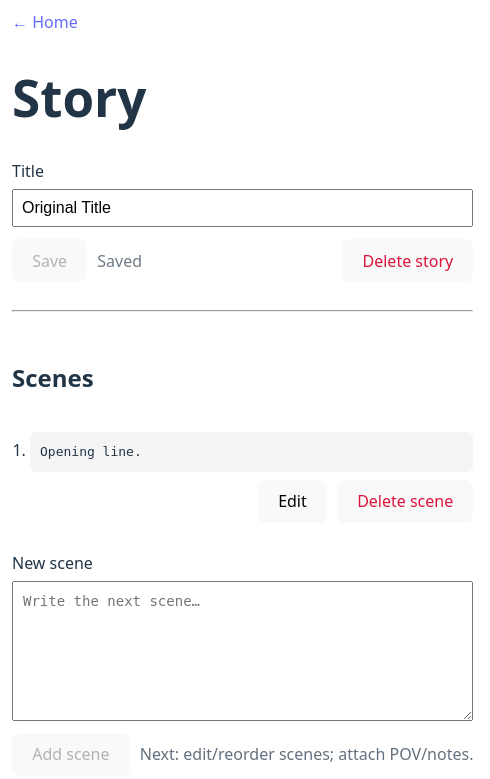
Scenario: loads a story title and enables Save only when changed
Check: the button "Save" is disabled, box [12,239,87,282]
Replace the text in the field with placeholder "Untitled story" with "Updated Title" at (243, 208), box [12,189,473,227]
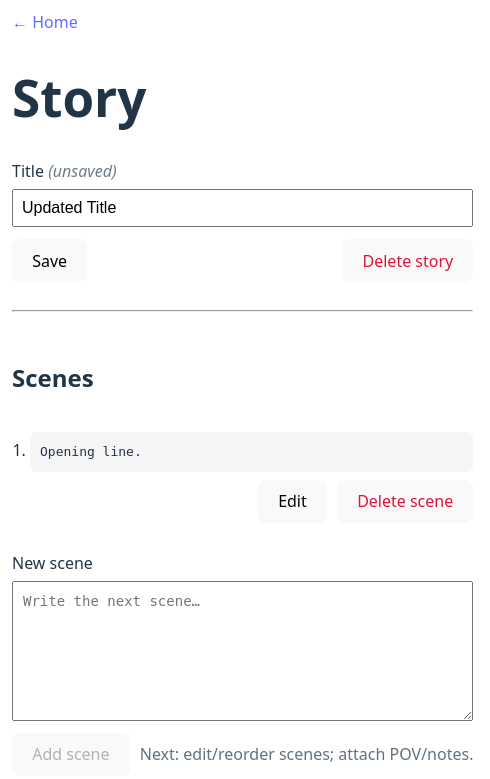
Check: the button "Save" is enabled, box [12,239,87,282]
